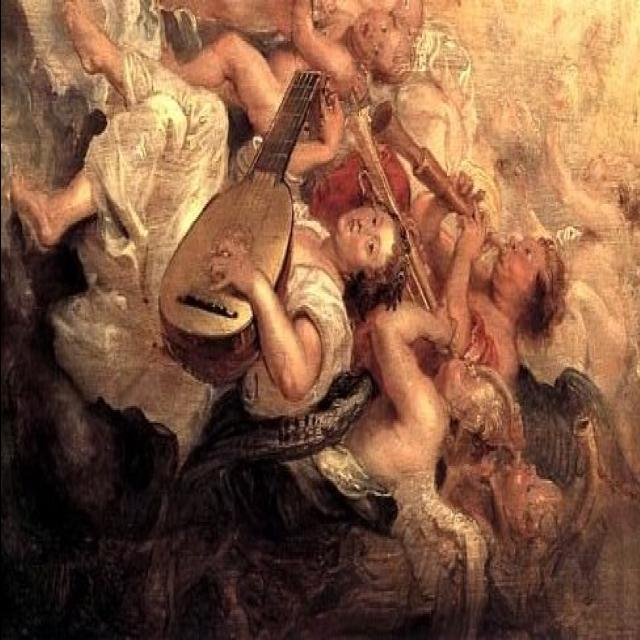angel: (38, 53, 422, 489)
